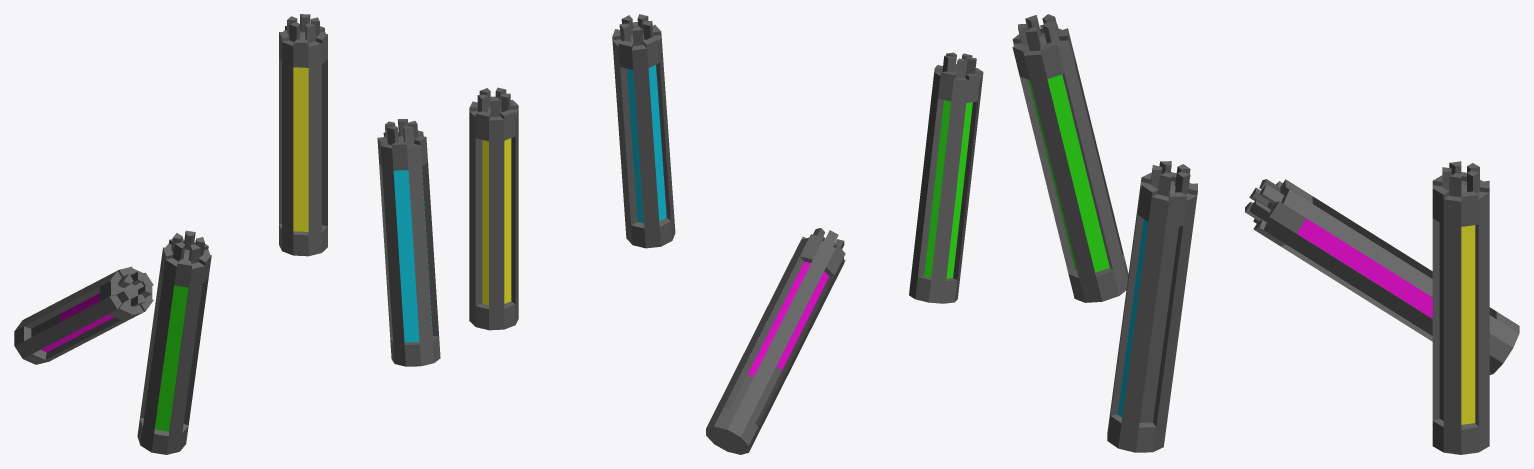
File: pillars.fbx
3 views of the same model, side by side, from view 1: azimuth 30°, elevation 25°; view 2: azimuth 150°, elevation 25°; view 3: azimuth 270°, elevation 25° (orthographic). The views are drawn at different scales.
Parts seen in each view (by area): view 1: tower2, tower1, tower3, tower; view 2: tower3, tower, tower1, tower2; view 3: tower3, tower2, tower1, tower.
Boxes of the visible parts, x1,y1,x2,y2 form: tower2: [377, 119, 440, 366]; tower1: [279, 14, 327, 256]; tower3: [137, 230, 211, 454]; tower: [14, 266, 153, 364]; tower3: [909, 52, 983, 303]; tower: [706, 228, 845, 454]; tower1: [469, 87, 518, 330]; tower2: [612, 14, 675, 248]; tower3: [1012, 14, 1128, 302]; tower2: [1107, 161, 1197, 452]; tower1: [1432, 161, 1489, 454]; tower: [1245, 179, 1519, 374].
Bounding box in the file's own units: 1559 × 1296 × 1700.
